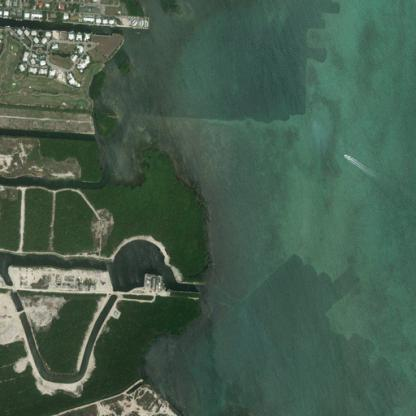ship: (343, 154, 346, 156)
